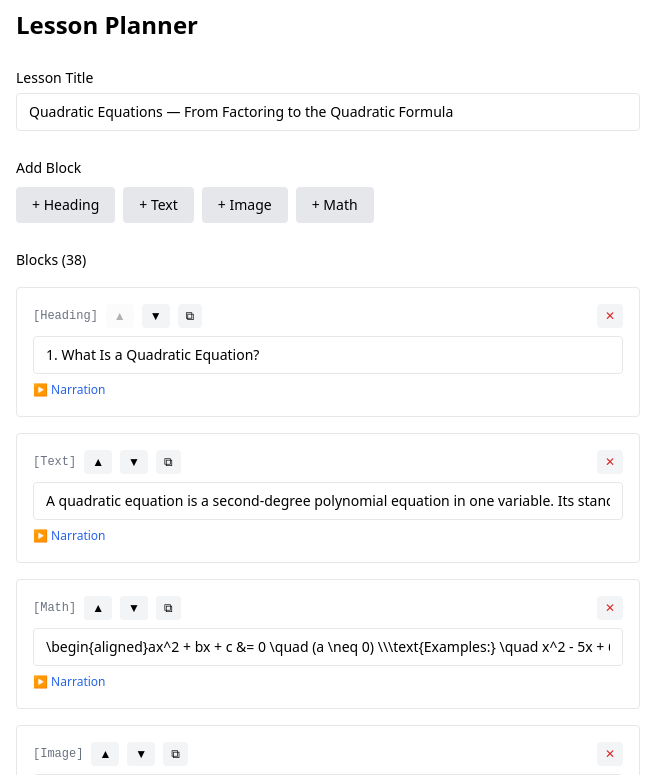
Scenario: LessonPlanner › creates duplicate block with new ID
Expected: the text "Blocks (38)" is shown, [16, 250, 86, 269]
Click the button named "Duplicate block" at (190, 316), box [178, 304, 202, 328]
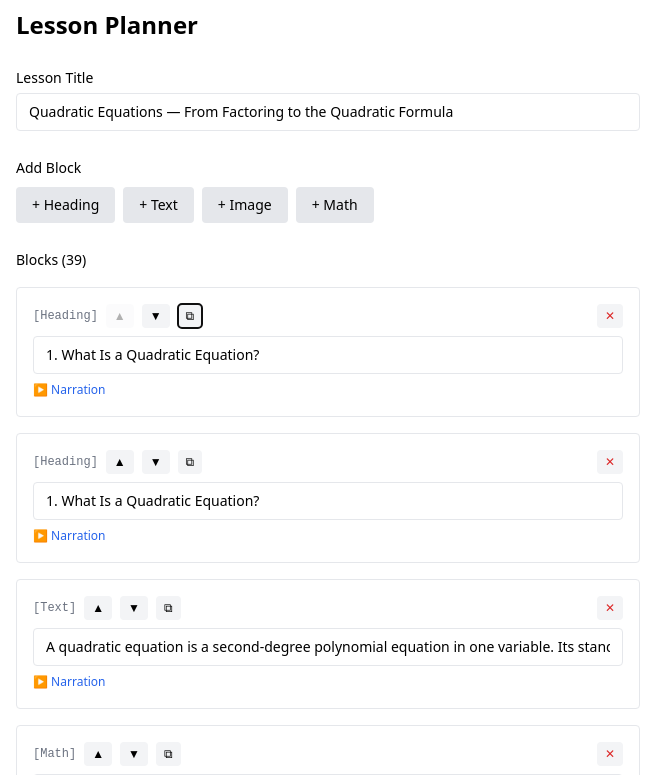
Expected: the text "Blocks (39)" is shown, [16, 250, 86, 269]
